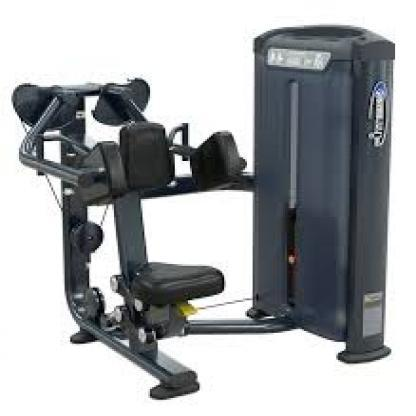lateral raises machine: (10, 78, 250, 400)
